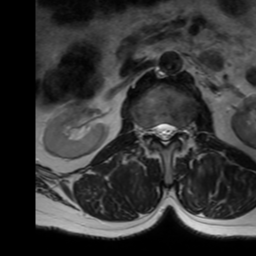CCS_normal: (160, 114, 168, 150)
LFS_stenosis: (177, 117, 185, 139)
LLS_normal: (168, 117, 177, 143)
RFS_normal: (144, 118, 152, 142)
RLS_normal: (152, 118, 160, 143)
